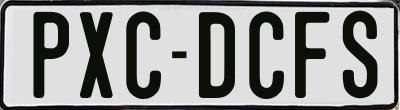C: (123, 9, 163, 102), (246, 8, 281, 96)
D: (196, 10, 232, 100)
F: (292, 10, 328, 99)
P: (30, 11, 69, 99)
S: (340, 8, 378, 98)
X: (77, 12, 115, 101)
